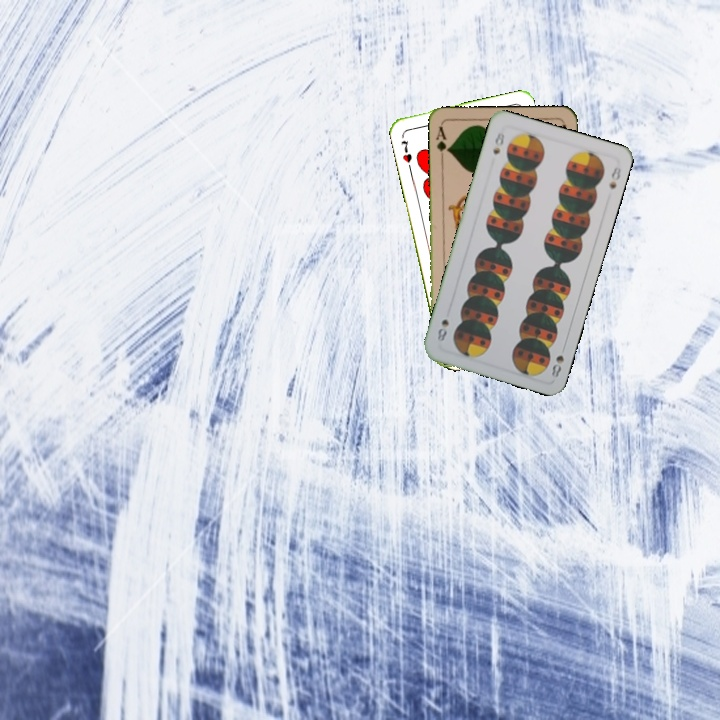GA: (432, 122, 452, 163)
H7: (397, 136, 415, 166)
S8: (547, 341, 568, 380), (489, 128, 508, 157)
